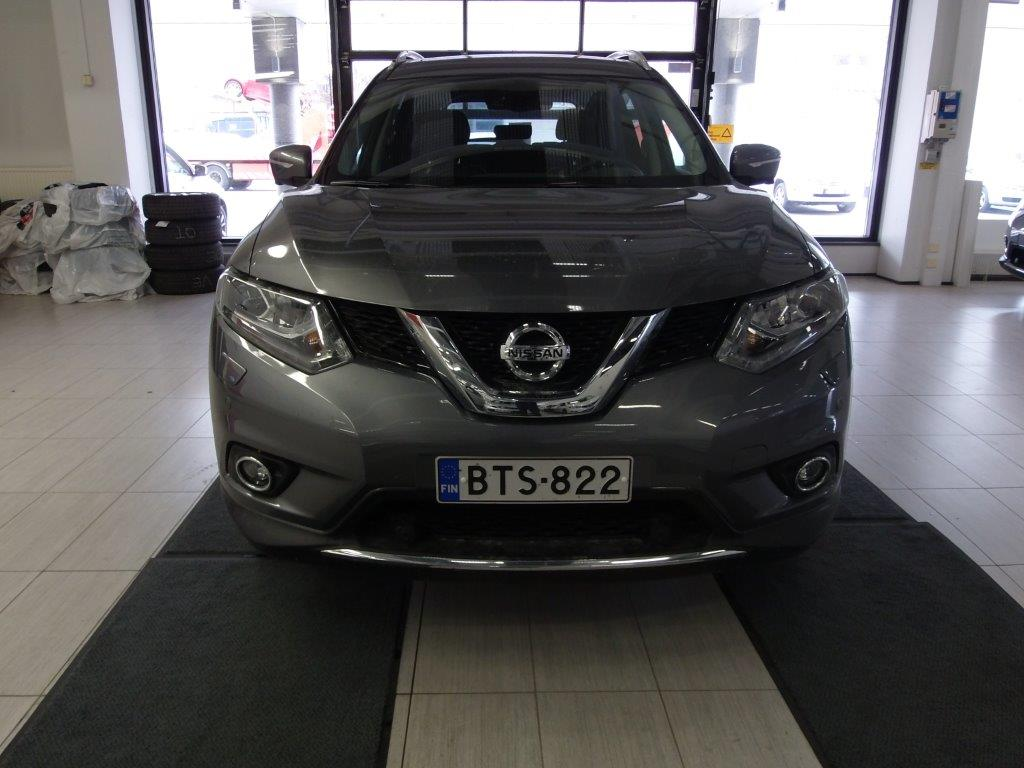license: (431, 454, 626, 502)
